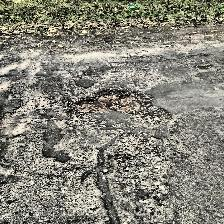pothole: (67, 86, 173, 124)
